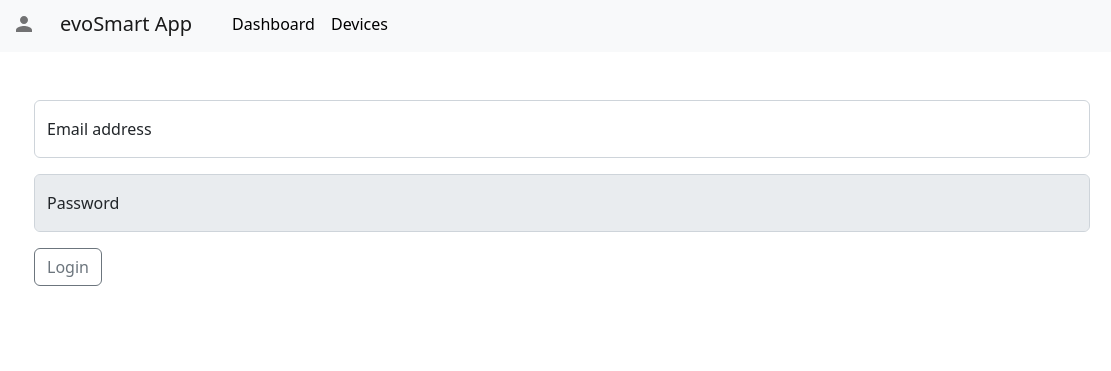
it: Test Login App › When email input invalid but Login button is pressed
expect the password field with test id "password-input" is disabled: met, box [34,174,1090,232]
Type "admin@email" into the field with test id "email-input" at (562, 129), box [34,100,1090,158]
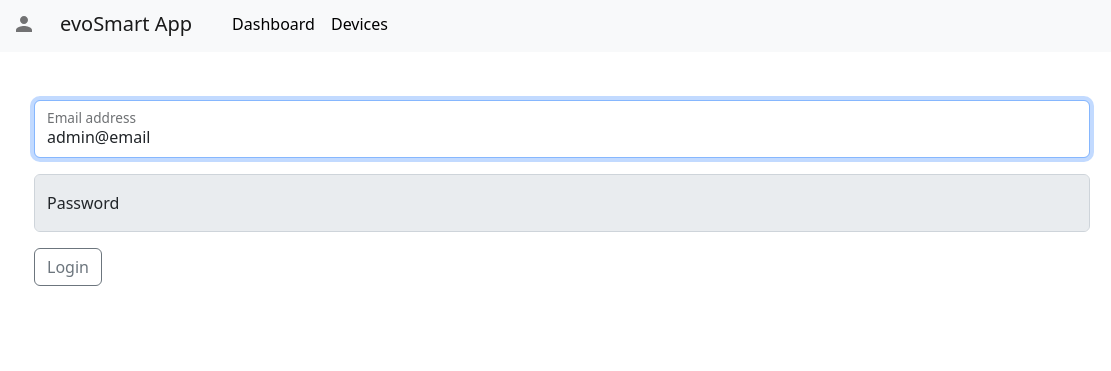
expect the password field with test id "password-input" is disabled: met, box [34,174,1090,232]
Click the button "Login" at (68, 267), box [34,248,102,286]
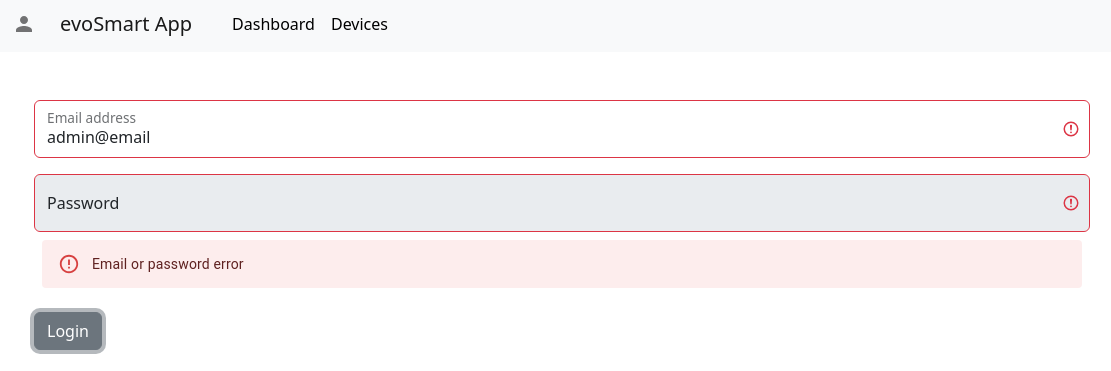
expect the text "Email or password error" is shown: met, box [92,256,244,272]
